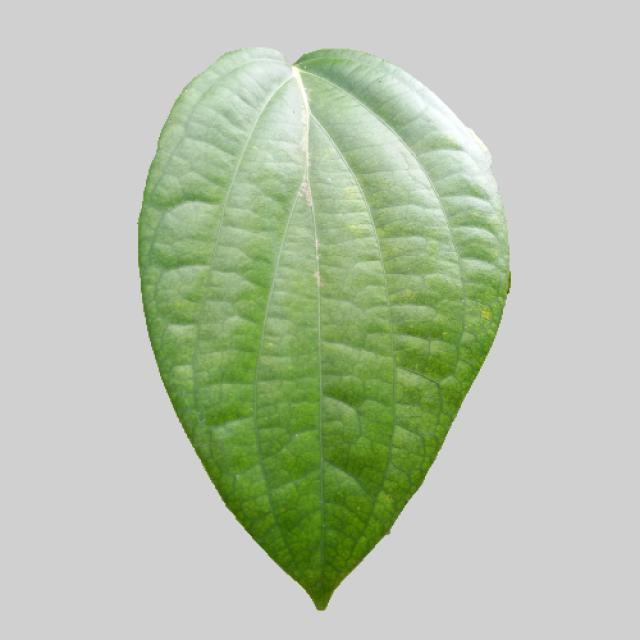healthy: (138, 46, 516, 620)
